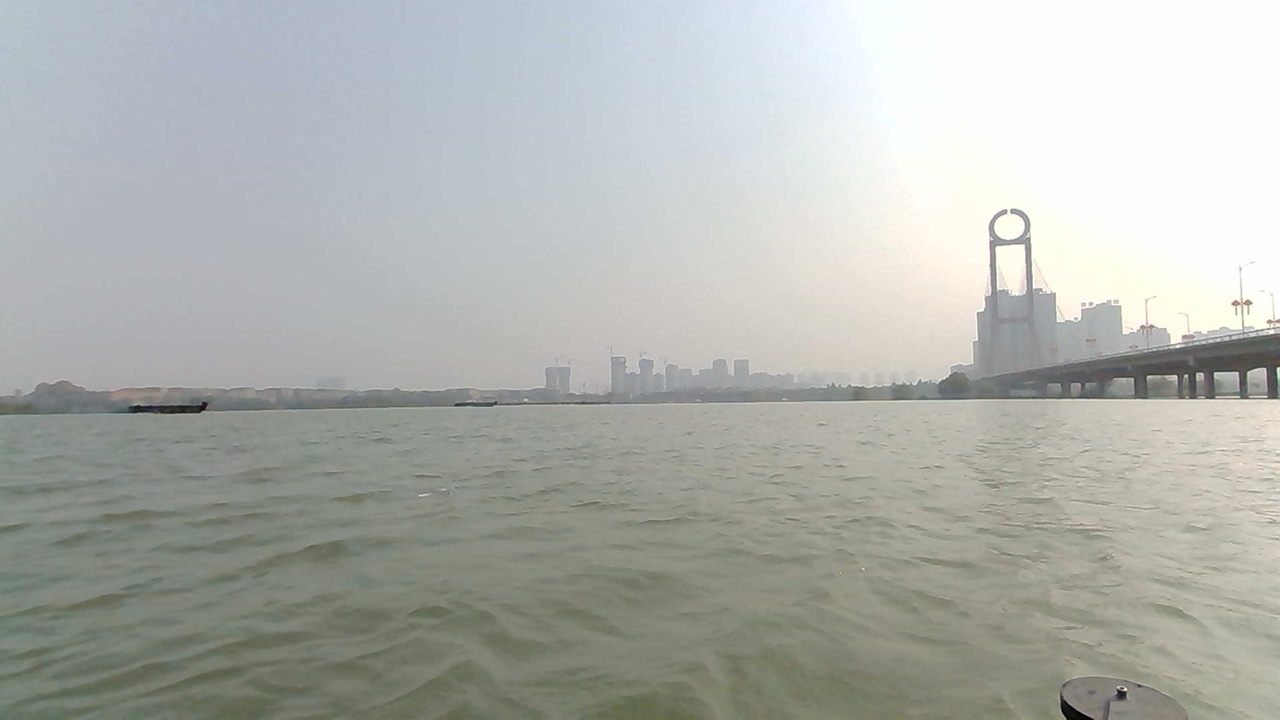bottle: (401, 469, 469, 515)
